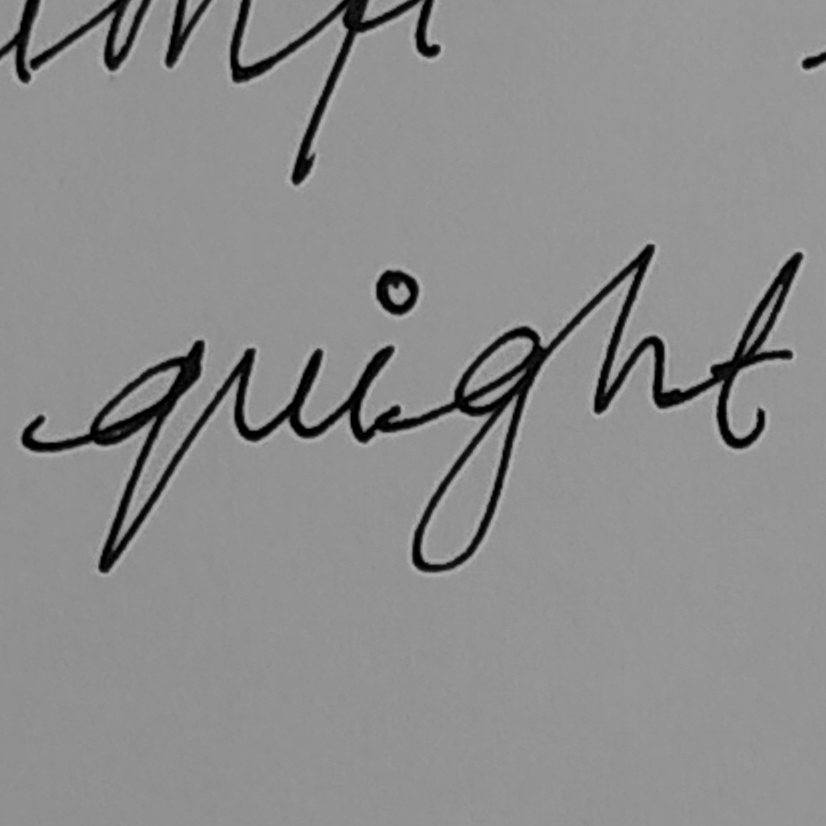g: (405, 324, 544, 575)
h: (590, 241, 672, 419)
i: (342, 266, 422, 449)
q: (85, 335, 208, 578)
t: (704, 250, 807, 452)
u: (229, 343, 326, 447)
